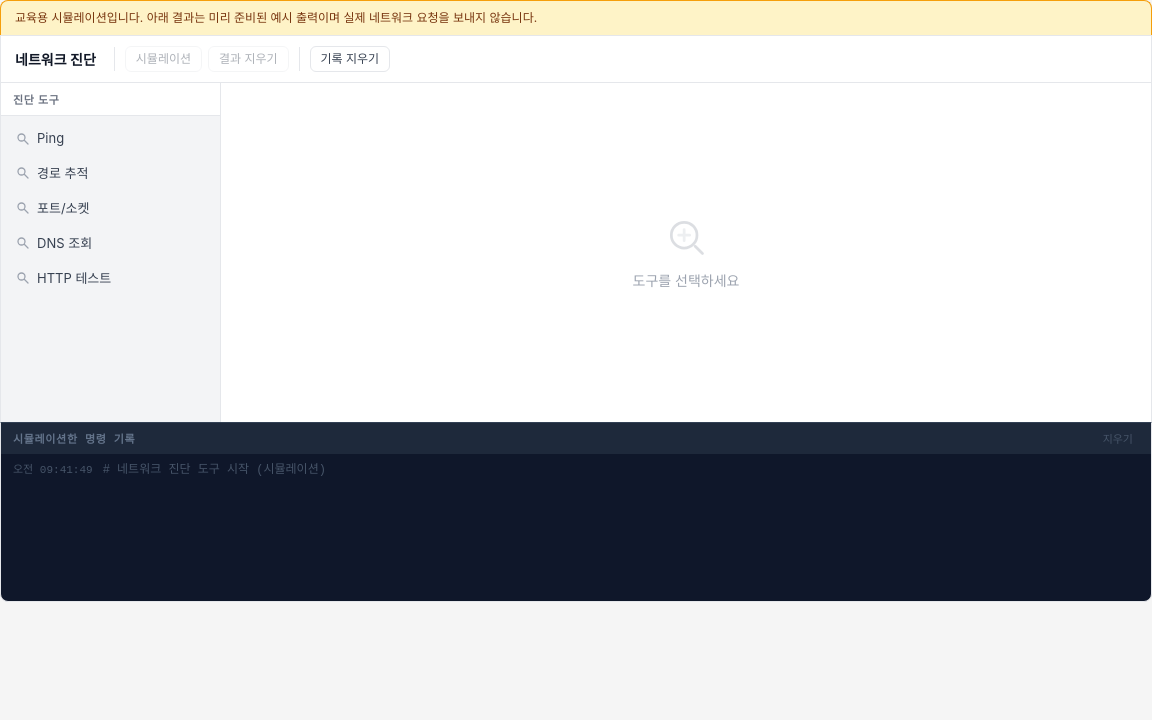
Test: NetworkDiagnostics simulation page › runs a ping simulation and records the command
Click the text "Ping". click: (51, 138)
box: [37,130,64,146]
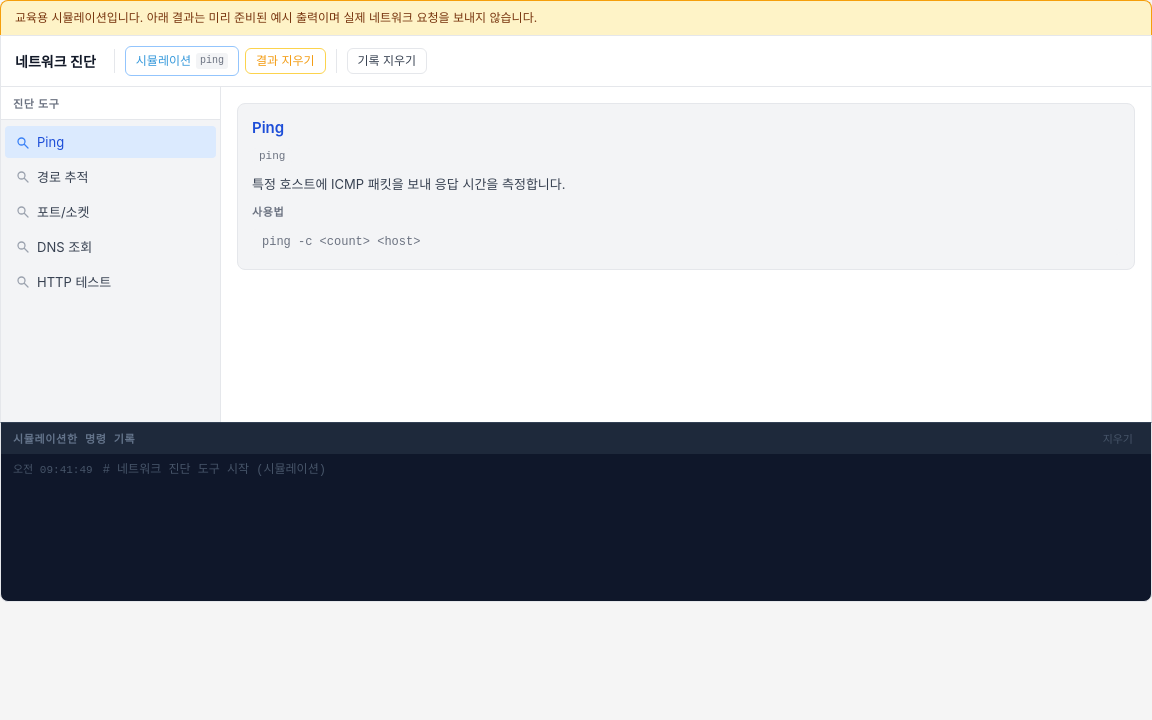
Click the button "시뮬레이션 ping". click: (182, 61)
box: [125,46,239,76]
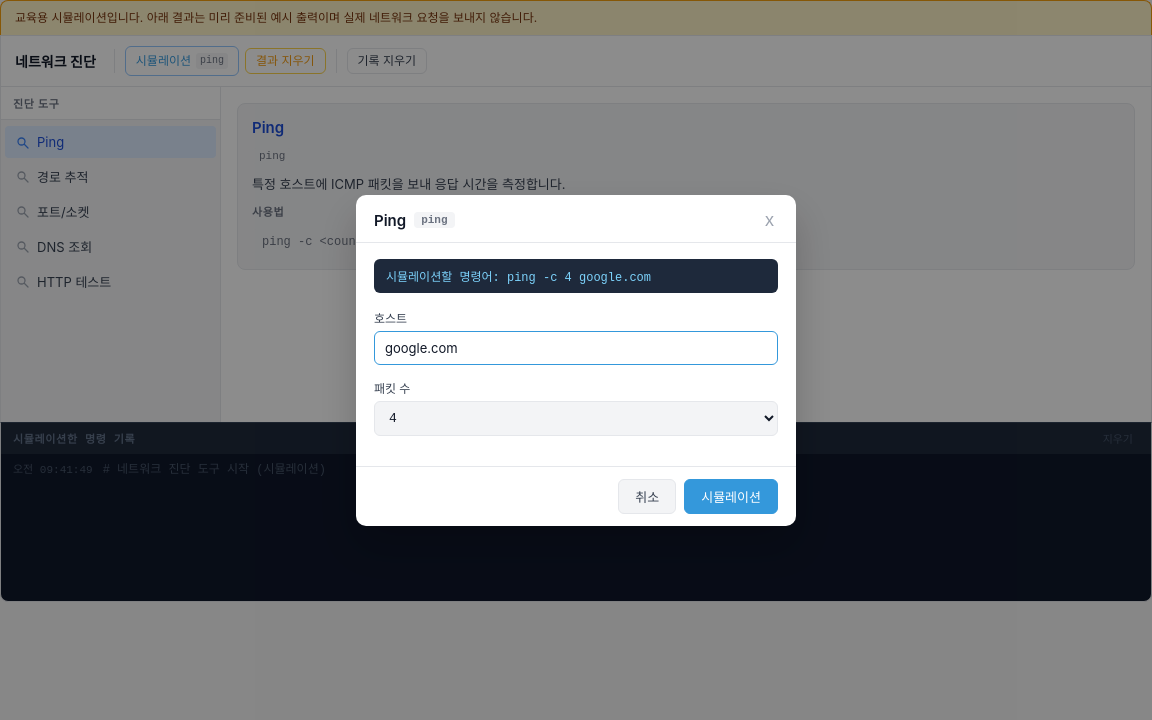
Click the button "시뮬레이션". click: (731, 496)
box: [684,478,778,514]
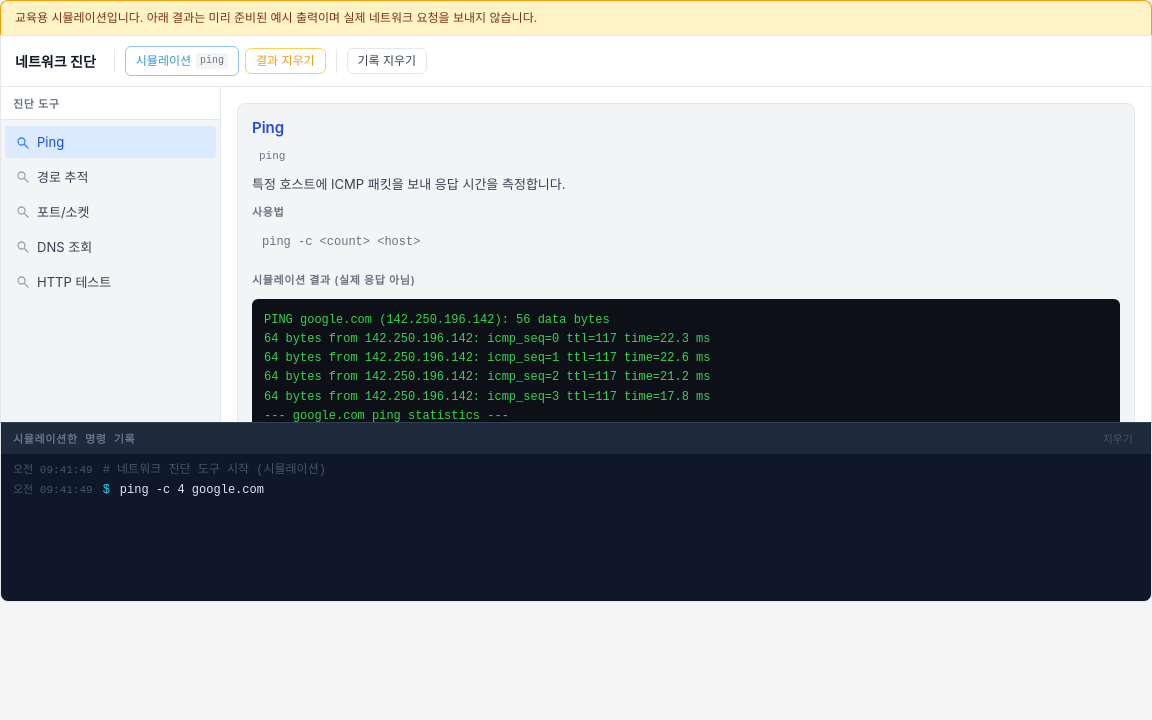
Now the text "ping -c 4 google.com" is shown, box [120,483,264,497]
Now the text with test id "nd-result" shows "PING google.com", box [264,313,710,422]
Now the text "시뮬레이션 결과 (실제 응답 아님)" is shown, box [252,273,415,287]
